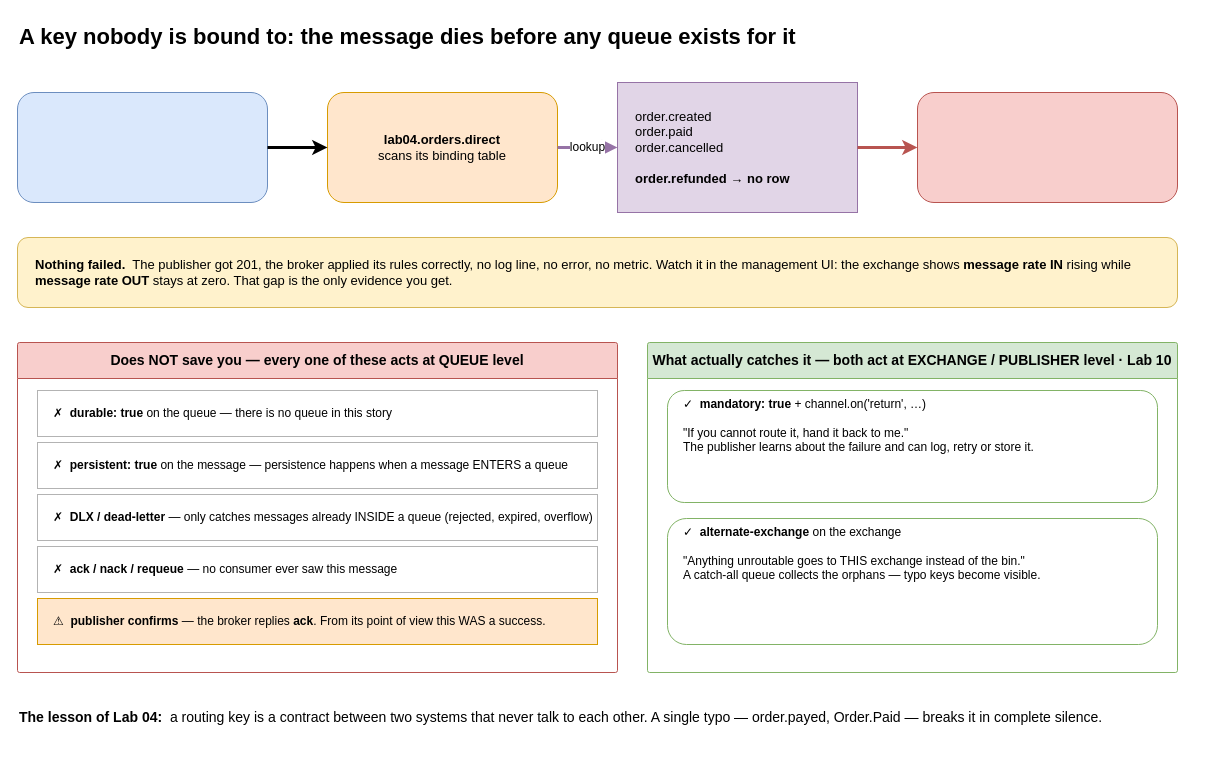
Some shapes in this 1215 by 759 pixel diagram are drawn without their labels. The centre of each missing label's shape, as x and y in pixels:
DISCARDED matching queues: 0 no queue → no storage → gone: point 1047,147
Lab04Controller publish(ex, 'order.refunded' , buf) returns 201 Created: point 142,147
